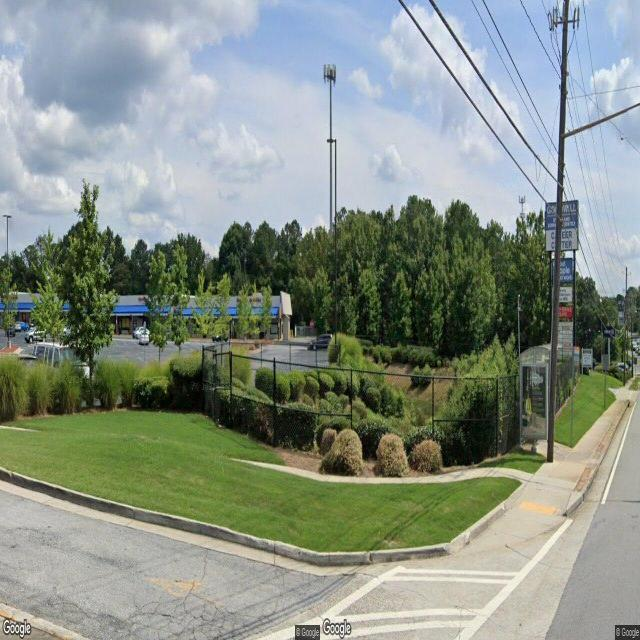shelter: (518, 344, 552, 454)
